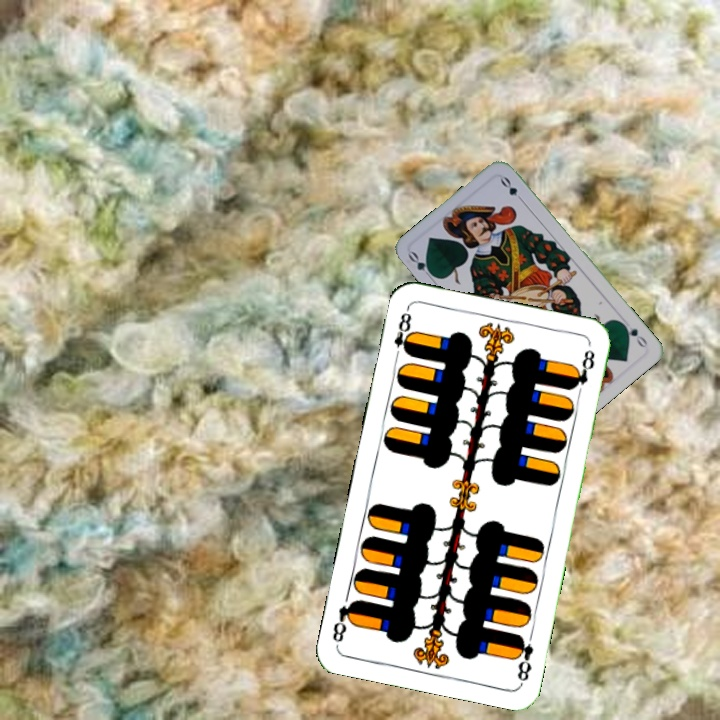E8: (390, 305, 416, 363), (510, 631, 536, 685)
GO: (404, 247, 438, 283), (617, 319, 650, 350)
